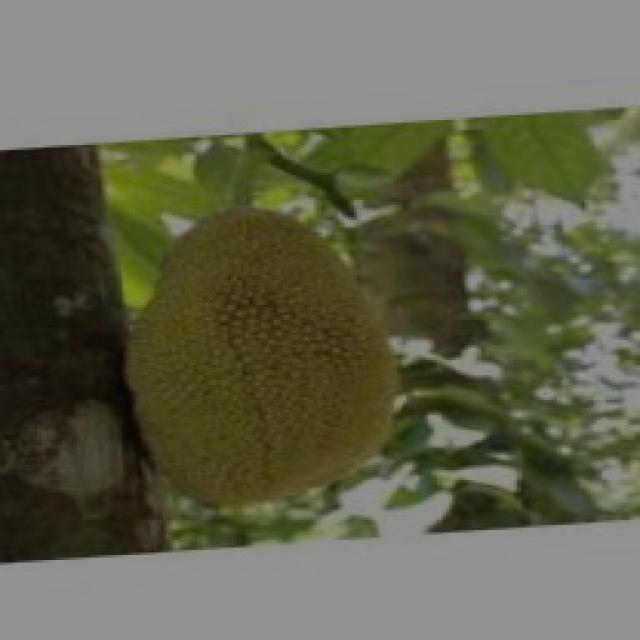Fruit: (102, 192, 418, 528)
